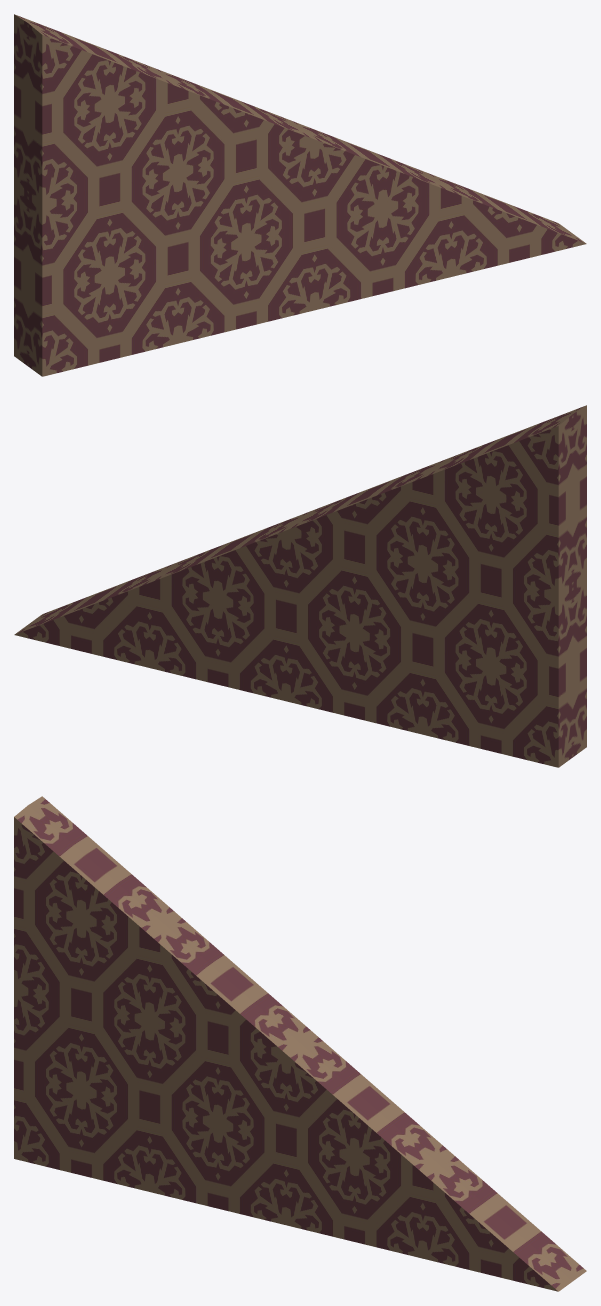
File: TRIANGLE WALL.fbx
3 views of the same model, one above another, from view 1: azimuth 30°, elevation 25°; view 2: azimuth 150°, elevation 25°; view 3: azimuth 330°, elevation 25° (orthographic).
Parts seen in each view (by area): view 1: Triangle Wall; view 2: Triangle Wall; view 3: Triangle Wall.
Part boxes in pixels (x1=…): Triangle Wall: x1=14, y1=14, x2=586, y2=376; Triangle Wall: x1=14, y1=405, x2=586, y2=767; Triangle Wall: x1=14, y1=796, x2=586, y2=1291.
Size of the model in its own units: 250 by 151 by 22.5.
